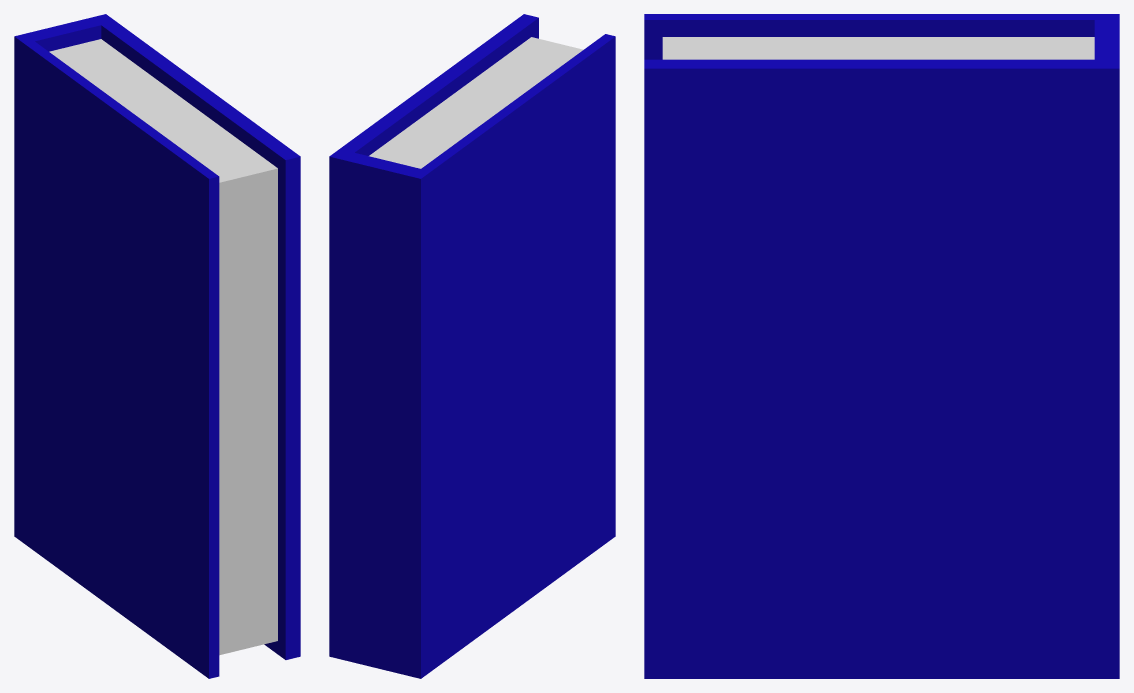
File: libro3.FBX
3 views of the same model, side by side, from view 1: azimuth 30°, elevation 25°; view 2: azimuth 150°, elevation 25°; view 3: azimuth 270°, elevation 25° (orthographic). The views are drawn at different scales.
Parts seen in each view (by area): view 1: Object002; view 2: Object002; view 3: Object002.
Boxes of the visible parts, box(x1,y1,x2,y2) form: Object002: box(14, 14, 300, 678); Object002: box(329, 14, 615, 678); Object002: box(644, 14, 1119, 678).
Size of the model in its own units: 0.8654 by 4.51 by 3.18.
